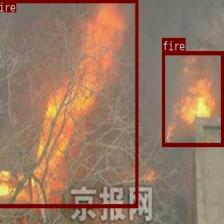fire: (0, 0, 137, 207), (162, 51, 224, 146)
